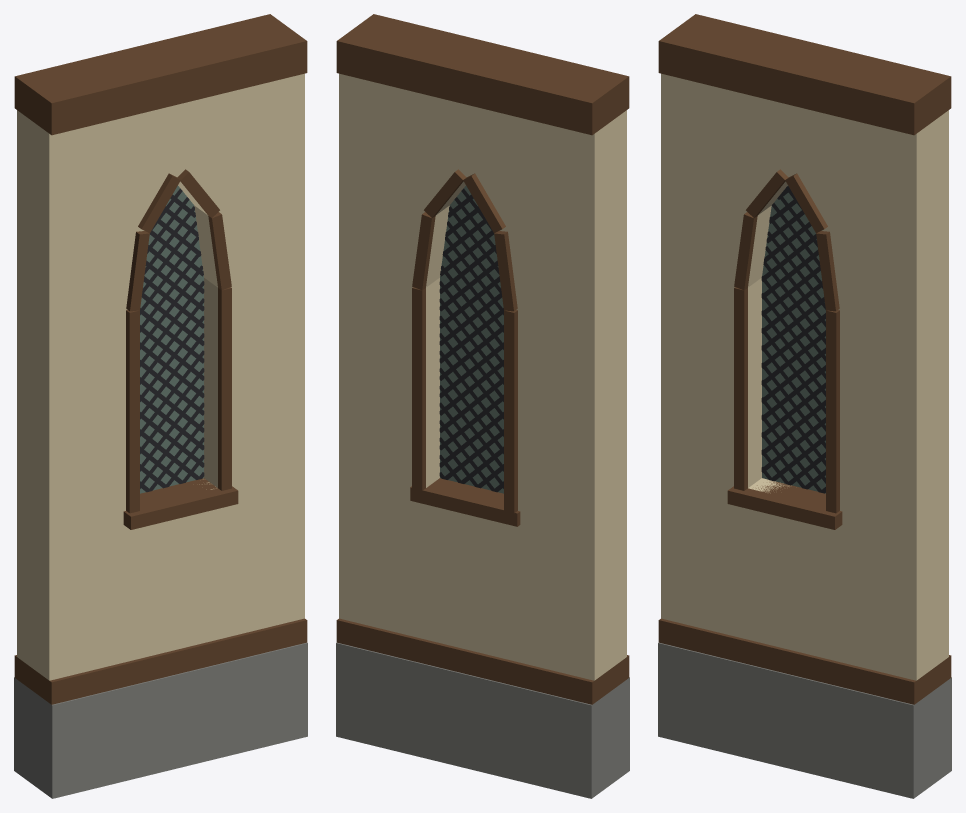
Rendered from WallLancet.fbx.
The picture shows the model from 3 angles, left to right: view 1: azimuth 30°, elevation 25°; view 2: azimuth 150°, elevation 25°; view 3: azimuth 330°, elevation 25°; orthographic projection.
Visible parts, largest first — view 1: WallLancet; view 2: WallLancet; view 3: WallLancet.
Part boxes in pixels (left/top/right/bottom): WallLancet: left=14, top=14, right=307, bottom=798; WallLancet: left=336, top=14, right=629, bottom=798; WallLancet: left=658, top=14, right=951, bottom=798.
Bounding box in the file's own units: 1 × 2.6 × 0.295.
